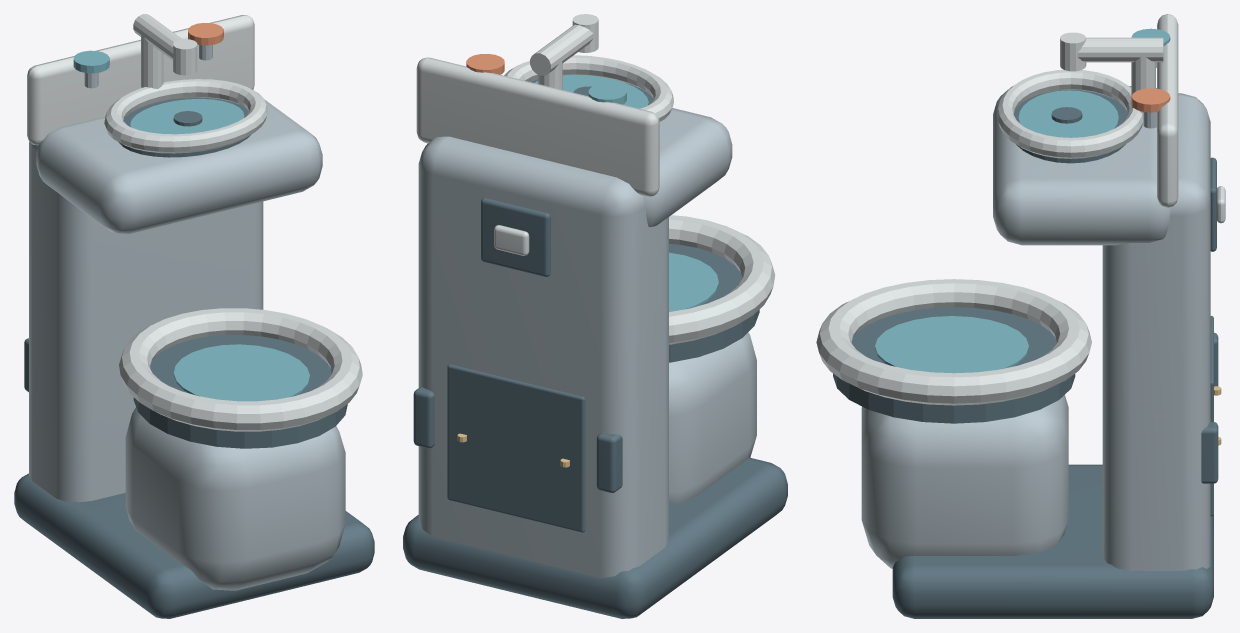
Rendered from cell_sanitation_unit_blendstra.glb.
3 views of the same model, side by side, from view 1: azimuth 30°, elevation 25°; view 2: azimuth 150°, elevation 25°; view 3: azimuth 270°, elevation 25° (orthographic). The views are drawn at different scales.
Parts seen in each view (by area): view 1: 01__Rear__service_backbone, 02__Pedestal__toilet_body, 08__Sink__undercounter_housing, 00__Base__anti-slip_plinth, 05__Bowl__continuous_steel_rim, 09__Sink__raised_back_lip, 03__Bowl__porcelain_inner, 04__Bowl__water_plane, 12__Sink__rolled_rim, 11__Sink__blue_metal_basin, 15__Faucet__swept_neck, 14__Faucet__stem (+4 smaller); view 2: 01__Rear__service_backbone, 00__Base__anti-slip_plinth, 06__Service__lower_inspection_panel, 09__Sink__raised_back_lip, 02__Pedestal__toilet_body, 05__Bowl__continuous_steel_rim, 08__Sink__undercounter_housing, 19__Back__recessed_flusher, 12__Sink__rolled_rim, 03__Bowl__porcelain_inner, 04__Bowl__water_plane, 15__Faucet__swept_neck (+7 smaller); view 3: 01__Rear__service_backbone, 02__Pedestal__toilet_body, 00__Base__anti-slip_plinth, 05__Bowl__continuous_steel_rim, 08__Sink__undercounter_housing, 03__Bowl__porcelain_inner, 04__Bowl__water_plane, 12__Sink__rolled_rim, 09__Sink__raised_back_lip, 11__Sink__blue_metal_basin, 15__Faucet__swept_neck, 21__Back__wall_anchor.001 (+6 smaller).
Part boxes in pixels (left/top/right/bottom): 01__Rear__service_backbone: left=29, top=142, right=263, bottom=502; 02__Pedestal__toilet_body: left=125, top=407, right=345, bottom=590; 08__Sink__undercounter_housing: left=36, top=99, right=322, bottom=233; 00__Base__anti-slip_plinth: left=14, top=473, right=374, bottom=618; 05__Bowl__continuous_steel_rim: left=119, top=308, right=362, bottom=431; 09__Sink__raised_back_lip: left=27, top=15, right=254, bottom=145; 03__Bowl__porcelain_inner: left=133, top=335, right=347, bottom=448; 04__Bowl__water_plane: left=173, top=344, right=309, bottom=401; 12__Sink__rolled_rim: left=104, top=79, right=267, bottom=153; 11__Sink__blue_metal_basin: left=130, top=99, right=244, bottom=134; 15__Faucet__swept_neck: left=133, top=14, right=181, bottom=60; 14__Faucet__stem: left=141, top=31, right=163, bottom=88; 01__Rear__service_backbone: left=418, top=136, right=668, bottom=577; 00__Base__anti-slip_plinth: left=403, top=457, right=787, bottom=618; 06__Service__lower_inspection_panel: left=447, top=364, right=585, bottom=532; 09__Sink__raised_back_lip: left=416, top=57, right=659, bottom=196; 02__Pedestal__toilet_body: left=669, top=332, right=756, bottom=504; 05__Bowl__continuous_steel_rim: left=669, top=215, right=775, bottom=344; 08__Sink__undercounter_housing: left=427, top=108, right=732, bottom=226; 19__Back__recessed_flusher: left=481, top=198, right=550, bottom=276; 12__Sink__rolled_rim: left=504, top=55, right=673, bottom=121; 03__Bowl__porcelain_inner: left=669, top=244, right=759, bottom=362; 04__Bowl__water_plane: left=669, top=252, right=718, bottom=311; 15__Faucet__swept_neck: left=530, top=24, right=593, bottom=75; 01__Rear__service_backbone: left=1102, top=93, right=1210, bottom=570; 02__Pedestal__toilet_body: left=861, top=395, right=1068, bottom=568; 00__Base__anti-slip_plinth: left=892, top=464, right=1213, bottom=618; 05__Bowl__continuous_steel_rim: left=816, top=279, right=1091, bottom=405; 08__Sink__undercounter_housing: left=993, top=86, right=1170, bottom=245; 03__Bowl__porcelain_inner: left=833, top=307, right=1075, bottom=423; 04__Bowl__water_plane: left=875, top=316, right=1028, bottom=373; 12__Sink__rolled_rim: left=996, top=69, right=1143, bottom=158; 09__Sink__raised_back_lip: left=1157, top=14, right=1178, bottom=207; 11__Sink__blue_metal_basin: left=1018, top=90, right=1118, bottom=137; 15__Faucet__swept_neck: left=1077, top=37, right=1163, bottom=62; 21__Back__wall_anchor.001: left=1201, top=422, right=1218, bottom=483.
Size of the model in its own units: 0.63 by 1.33 by 0.9297.
